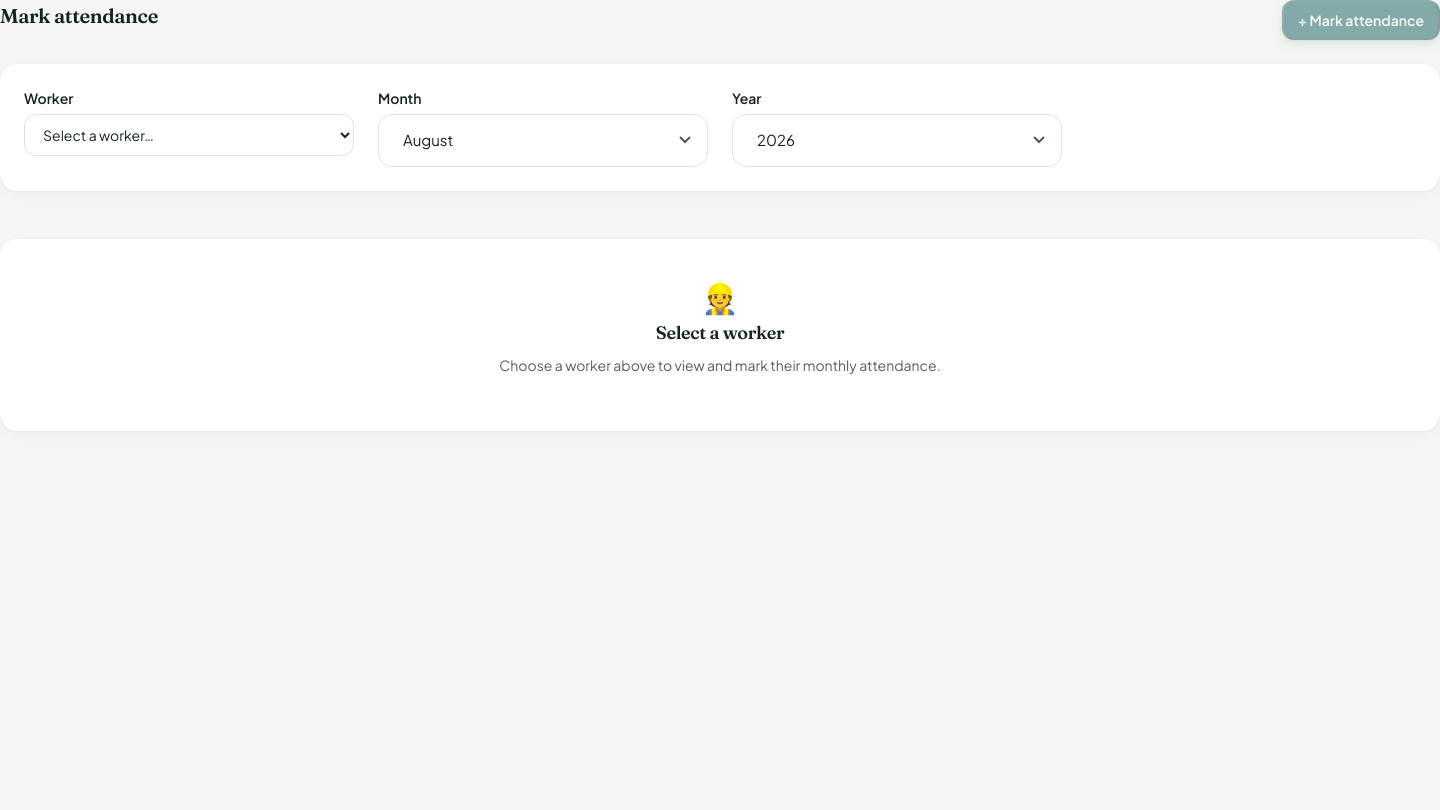
Test case: MarkAttendance › posts the attendance payload, shows a toast, closes the modal and refreshes the report
Step 1. Select "Ana (ana@example.com)" in the dropdown labelled "Worker" → (189, 135), box [24, 114, 354, 156]
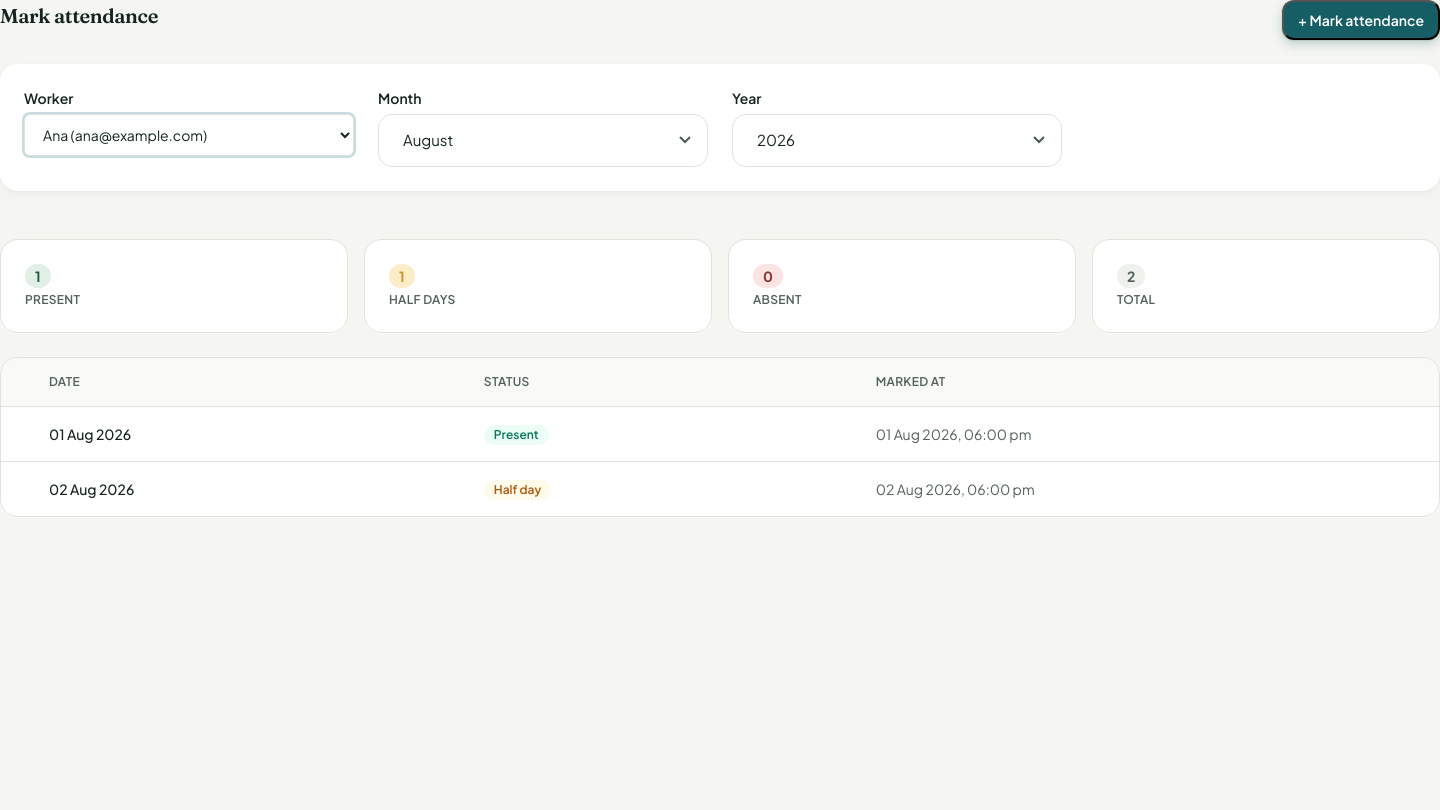
Step 2. Click the button "+ Mark attendance" → (1361, 20), box [1282, 0, 1439, 40]
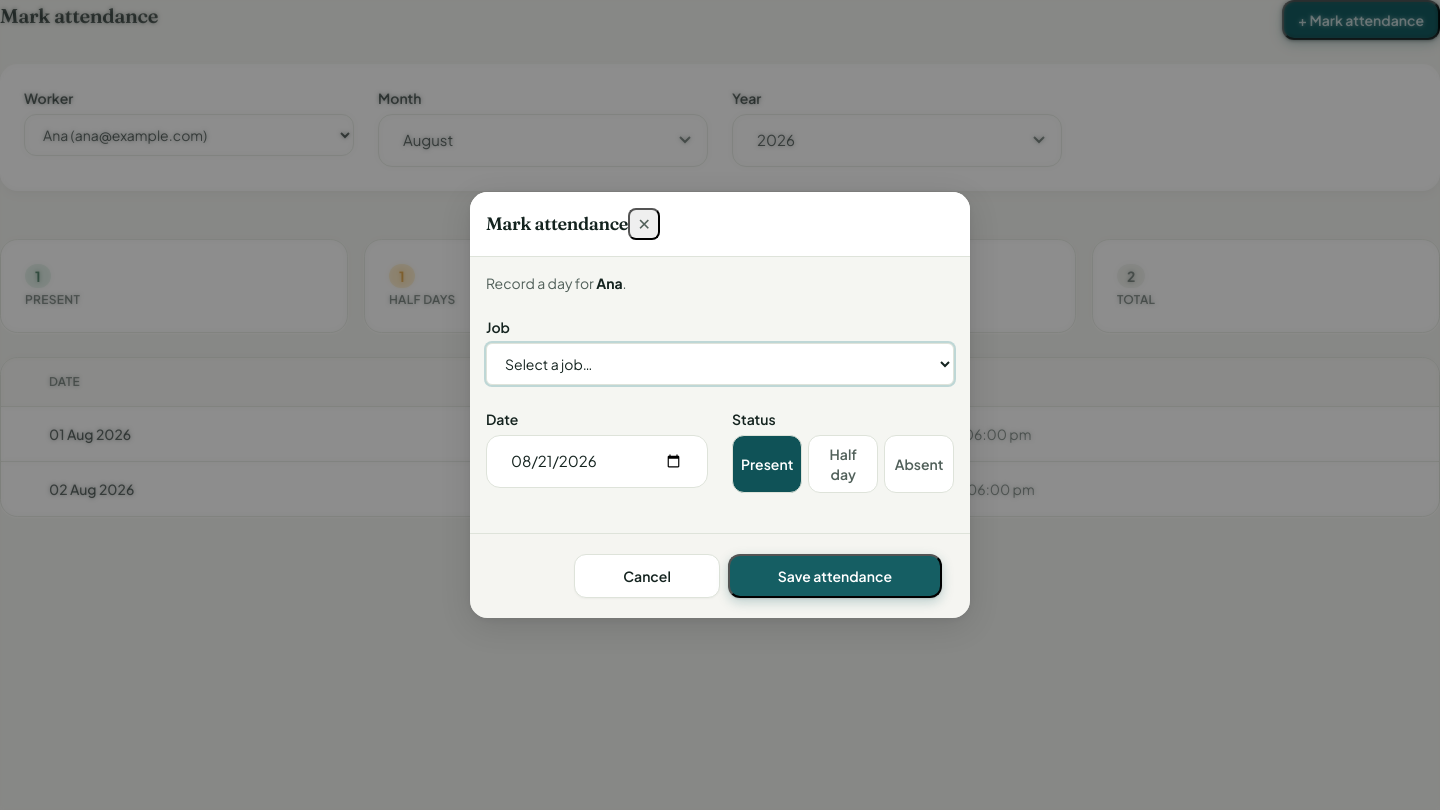
Step 3. Select "Cook · ₹600/day" in the dropdown labelled "Job" → (720, 364), box [486, 343, 954, 385]
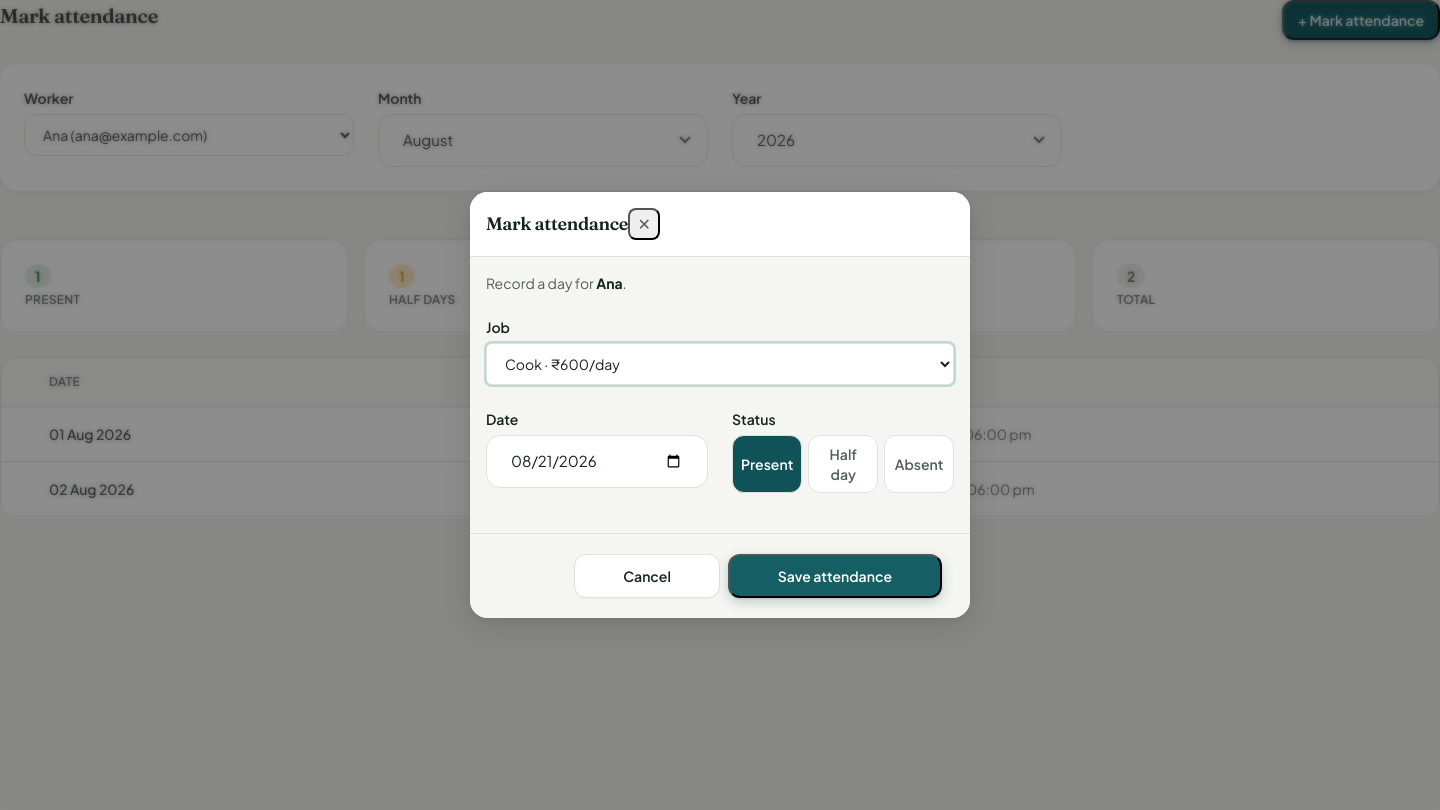
Step 4. Click the button "Save attendance" → (835, 576), box [728, 554, 942, 598]
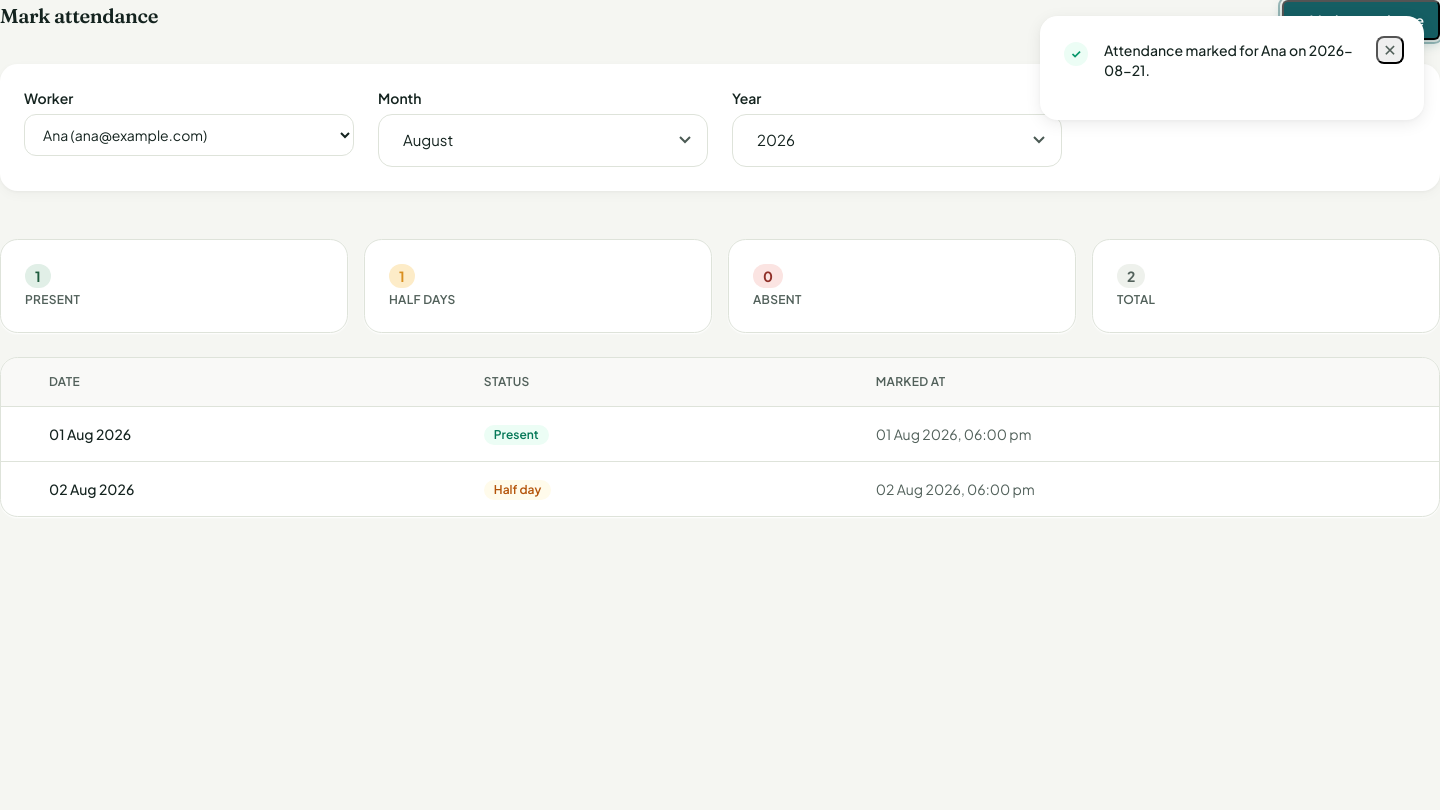
Expected: the dialog is gone
